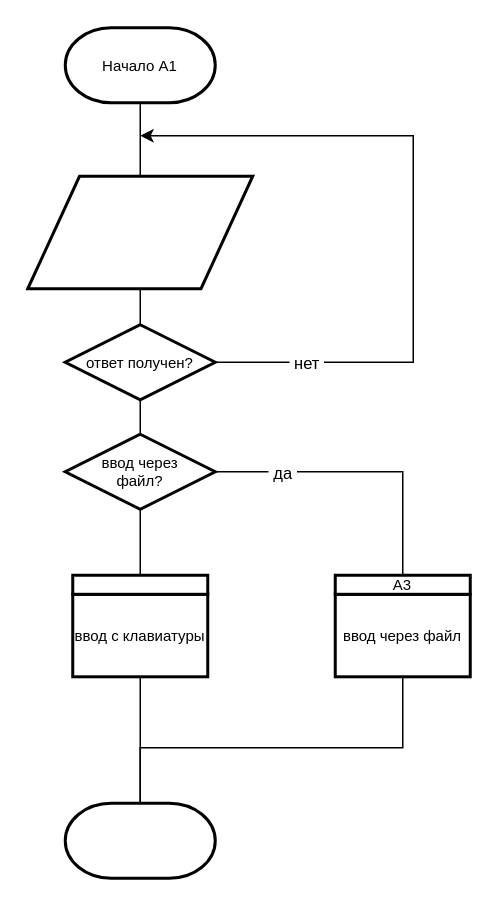
This 497x905 diagram has some shape labels left out. The shapes that lost their labels are listed below. From the top down, each one's centre as x and y in pixels, then its label:
At pixel 140 232: "Как вводится текст? файл / клавиатура".
At pixel 139 584: "А2".
At pixel 139 840: "Конец А1".
